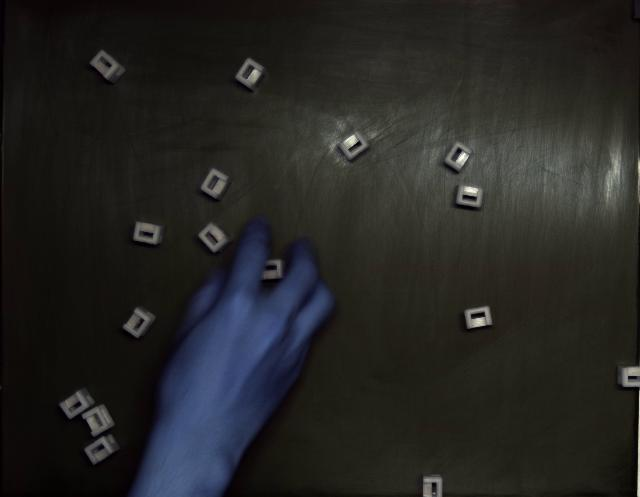fourth_side: (90, 50, 125, 84), (59, 389, 95, 420), (82, 405, 115, 438), (84, 435, 120, 465), (122, 308, 156, 339), (235, 58, 266, 91), (200, 169, 232, 200), (199, 222, 231, 253), (339, 131, 369, 160), (444, 141, 472, 172), (132, 221, 165, 245), (464, 306, 492, 330), (456, 185, 484, 208)
